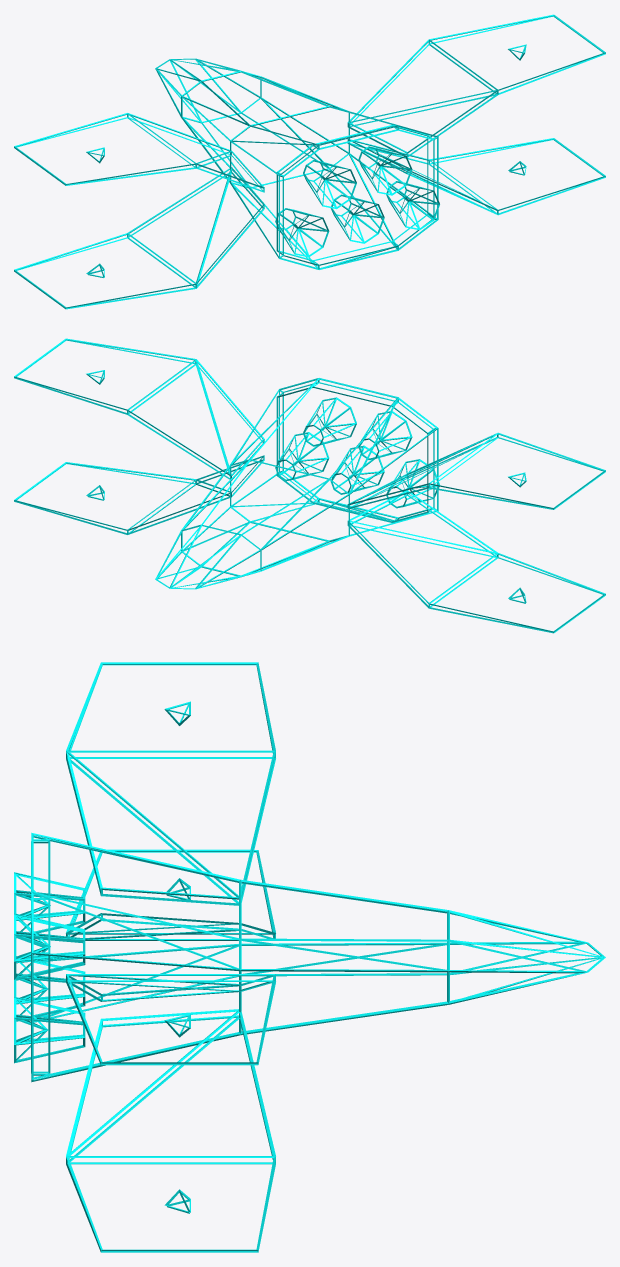
Rendered from vaisseau_wireframe.fbx.
3 renders of one model, top to bottom at view 1: azimuth 30°, elevation 25°; view 2: azimuth 150°, elevation 25°; view 3: azimuth 270°, elevation 25°, orthographic. The views are drawn at different scales.
Visible parts, largest first — view 1: Vaisseau; view 2: Vaisseau; view 3: Vaisseau.
Part boxes in pixels (box(x1,y1,x2,y2)): Vaisseau: box(14, 14, 605, 309); Vaisseau: box(14, 338, 605, 633); Vaisseau: box(14, 662, 605, 1252).
Bounding box in the file's own units: 1365 × 303 × 853.
